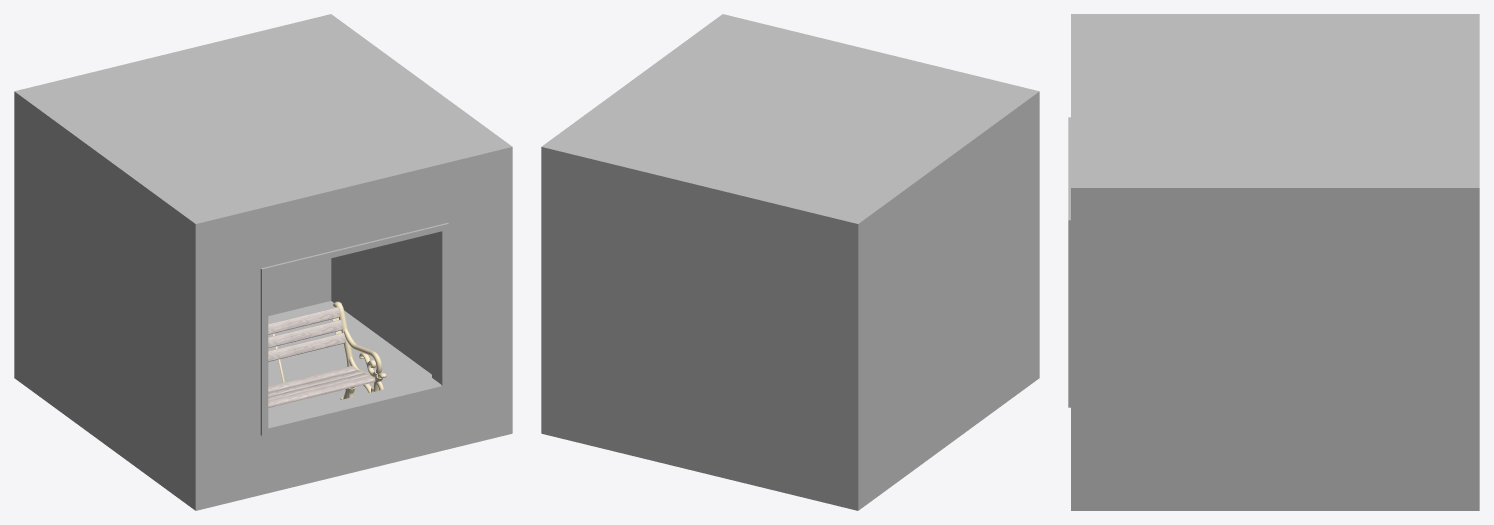
File: Cena-Banquinho-Sem-Coluna.fbx
The picture shows the model from 3 angles, left to right: view 1: azimuth 30°, elevation 25°; view 2: azimuth 150°, elevation 25°; view 3: azimuth 270°, elevation 25°; orthographic projection. The views are drawn at different scales.
Parts seen in each view (by area): view 1: Base-Bench, Base-Bench.001, Bench; view 2: Base-Bench; view 3: Base-Bench.
Part boxes in pixels (x1=…): Base-Bench: x1=14, y1=14, x2=512, y2=510; Base-Bench.001: x1=268, y1=301, x2=431, y2=417; Bench: x1=268, y1=301, x2=386, y2=407; Base-Bench: x1=541, y1=14, x2=1039, y2=510; Base-Bench: x1=1068, y1=14, x2=1479, y2=510.
Bounding box in the file's own units: 759 × 657 × 758.
